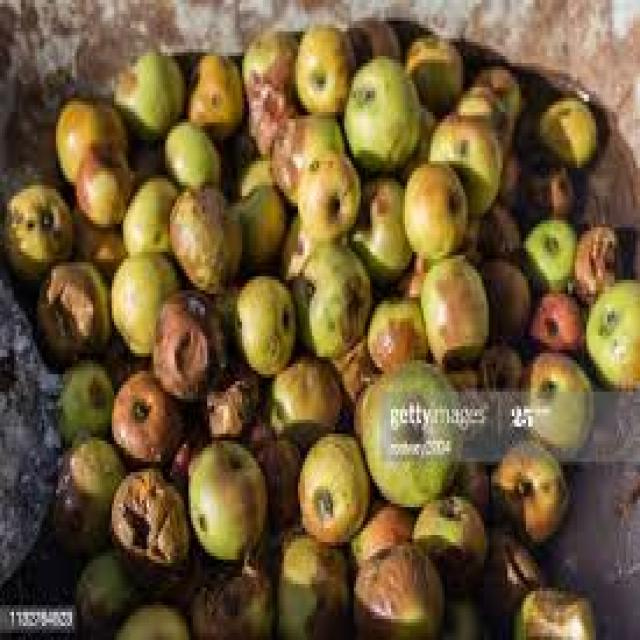biodegradable: (359, 357, 456, 507), (110, 465, 189, 595), (186, 437, 263, 556), (512, 350, 591, 465), (340, 49, 417, 164), (275, 518, 349, 637), (291, 241, 370, 350), (352, 539, 438, 637), (293, 430, 368, 542), (151, 287, 228, 395), (217, 269, 294, 374), (51, 434, 121, 549), (344, 171, 412, 287), (489, 441, 568, 539), (168, 185, 238, 294), (35, 256, 107, 361), (419, 248, 484, 364), (109, 367, 184, 465), (426, 108, 498, 210), (186, 553, 272, 637), (268, 102, 340, 200), (410, 493, 484, 588), (110, 42, 182, 136), (51, 94, 126, 182), (263, 353, 337, 441), (109, 255, 177, 350), (582, 273, 638, 385), (245, 413, 301, 525), (403, 158, 466, 256), (3, 182, 68, 276), (475, 525, 538, 616), (72, 542, 137, 630), (296, 147, 359, 234), (291, 25, 351, 109), (119, 168, 177, 252), (233, 182, 289, 266), (347, 497, 410, 570), (475, 256, 528, 340), (72, 143, 126, 224), (529, 94, 594, 161), (184, 49, 240, 126), (510, 584, 591, 637), (161, 115, 219, 189), (454, 434, 505, 518), (365, 294, 426, 364), (54, 364, 112, 437), (405, 31, 461, 105), (570, 221, 619, 305), (245, 70, 294, 154), (517, 217, 573, 290), (202, 357, 256, 430), (326, 329, 377, 406), (70, 199, 123, 273), (512, 154, 573, 217), (521, 294, 582, 353), (454, 80, 507, 147), (107, 595, 189, 637), (242, 24, 293, 91), (475, 59, 519, 119), (477, 199, 519, 259), (438, 588, 487, 637), (345, 14, 396, 59), (477, 343, 521, 395), (224, 150, 273, 189), (393, 252, 426, 297), (445, 357, 480, 399), (496, 143, 514, 196), (465, 214, 482, 256)
